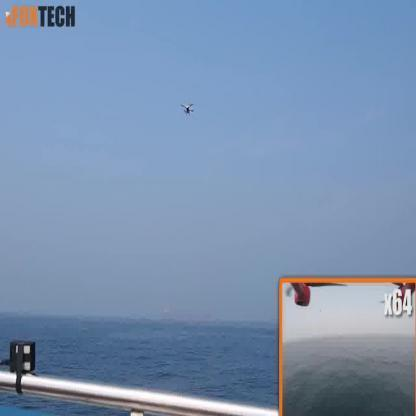drone: (177, 99, 198, 119)
